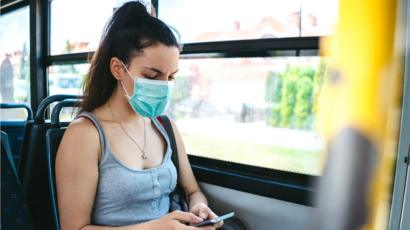with_mask: (103, 23, 183, 118)
